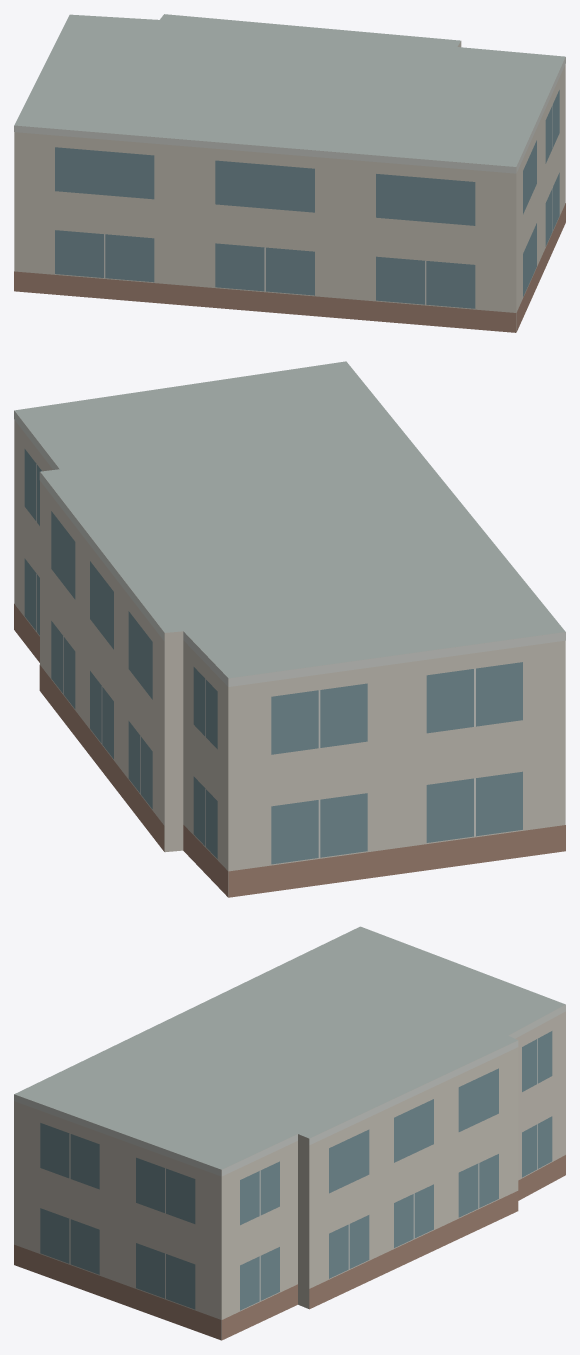
Rendered from survey-upis-32687280.glb.
The picture shows the model from 3 angles, top to bottom: view 1: azimuth 30°, elevation 25°; view 2: azimuth 150°, elevation 25°; view 3: azimuth 270°, elevation 25°; orthographic projection. The views are drawn at different scales.
Visible parts, largest first — view 1: survey-upis-32687280.tmp; view 2: survey-upis-32687280.tmp; view 3: survey-upis-32687280.tmp.
Part boxes in pixels (bbox=[...]): survey-upis-32687280.tmp: bbox=[14, 14, 565, 332]; survey-upis-32687280.tmp: bbox=[14, 361, 565, 897]; survey-upis-32687280.tmp: bbox=[14, 926, 565, 1340].
Bounding box in the file's own units: 18.66 × 6.1 × 17.88.
